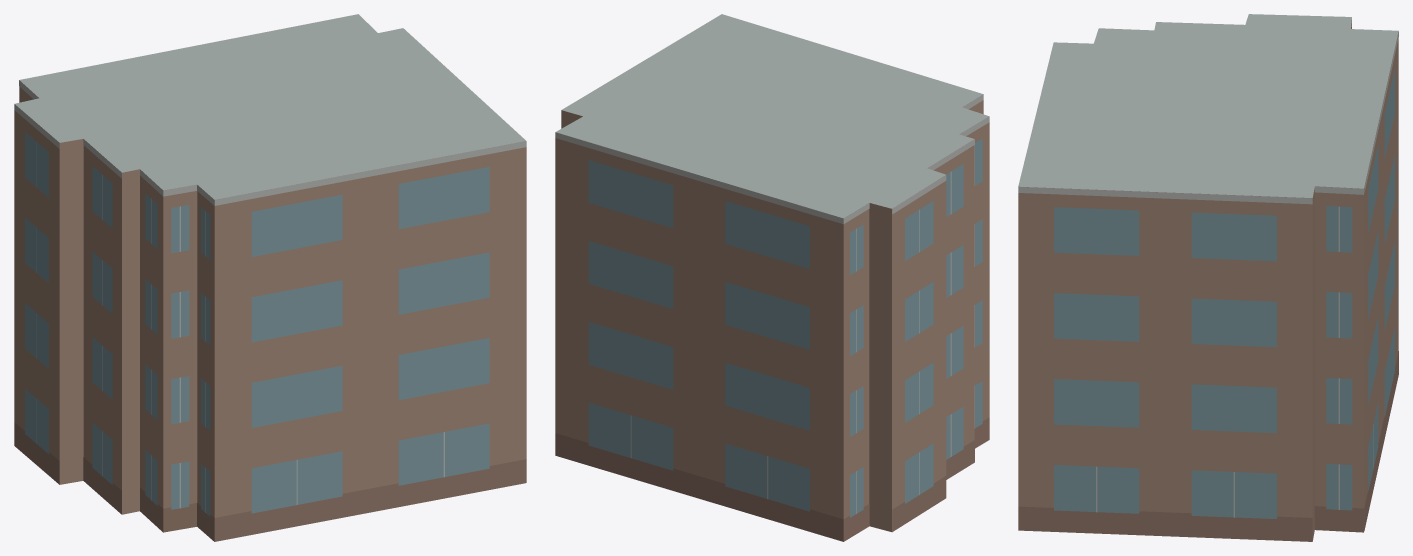
The model's file is survey-upis-32907821.glb.
3 renders of one model, left to right at view 1: azimuth 30°, elevation 25°; view 2: azimuth 150°, elevation 25°; view 3: azimuth 270°, elevation 25°, orthographic. The views are drawn at different scales.
Visible parts, largest first — view 1: survey-upis-32907821.tmp; view 2: survey-upis-32907821.tmp; view 3: survey-upis-32907821.tmp.
Part boxes in pixels (bbox=[...]): survey-upis-32907821.tmp: bbox=[14, 14, 526, 541]; survey-upis-32907821.tmp: bbox=[555, 14, 989, 541]; survey-upis-32907821.tmp: bbox=[1018, 14, 1398, 541].
Bounding box in the file's own units: 15.57 × 13.55 × 13.61.
